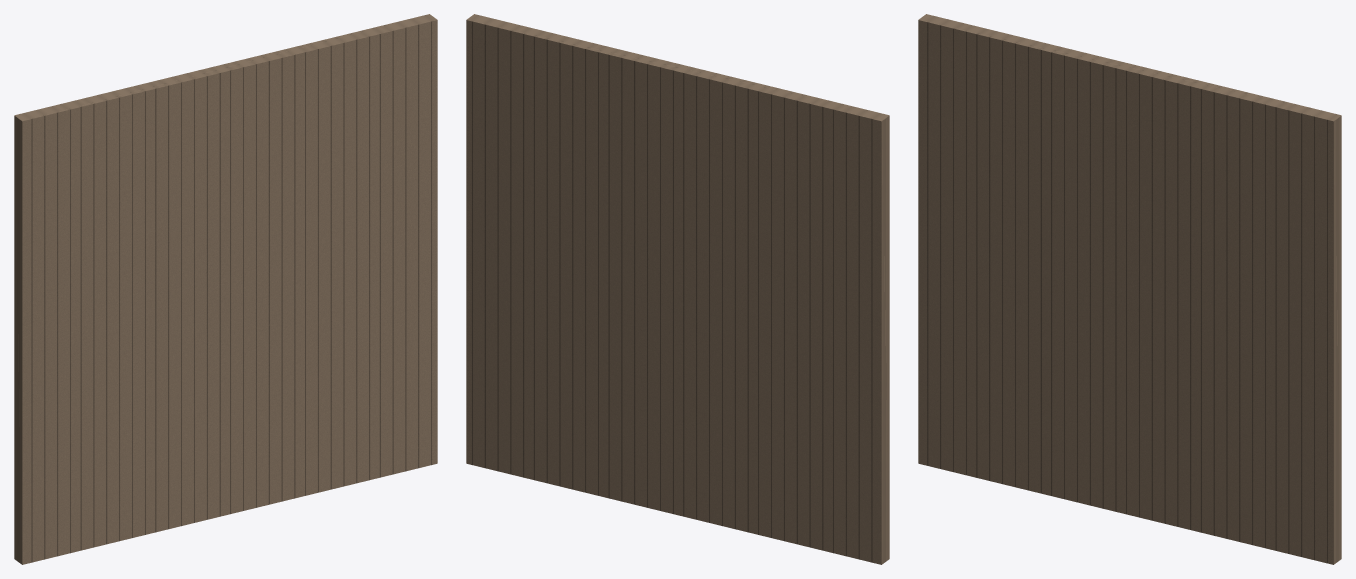
File: fence_privacy.glb
3 views of the same model, side by side, from view 1: azimuth 30°, elevation 25°; view 2: azimuth 150°, elevation 25°; view 3: azimuth 330°, elevation 25° (orthographic).
Parts seen in each view (by area): view 1: fence-col_234; view 2: fence-col_234; view 3: fence-col_234.
Boxes of the visible parts, x1=… form: fence-col_234: x1=14, y1=14, x2=437, y2=564; fence-col_234: x1=466, y1=14, x2=889, y2=564; fence-col_234: x1=918, y1=14, x2=1341, y2=564.
Size of the model in its own units: 1.76 by 1.8 by 0.06.
1 material, 1 textured.
